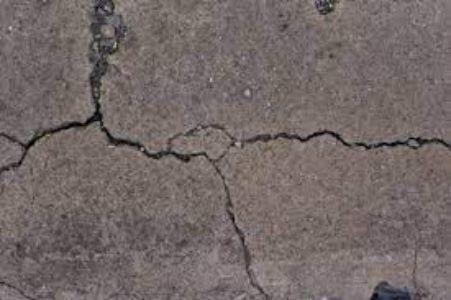crack: (109, 115, 444, 180), (215, 181, 280, 300), (1, 114, 102, 175), (88, 0, 129, 110)
